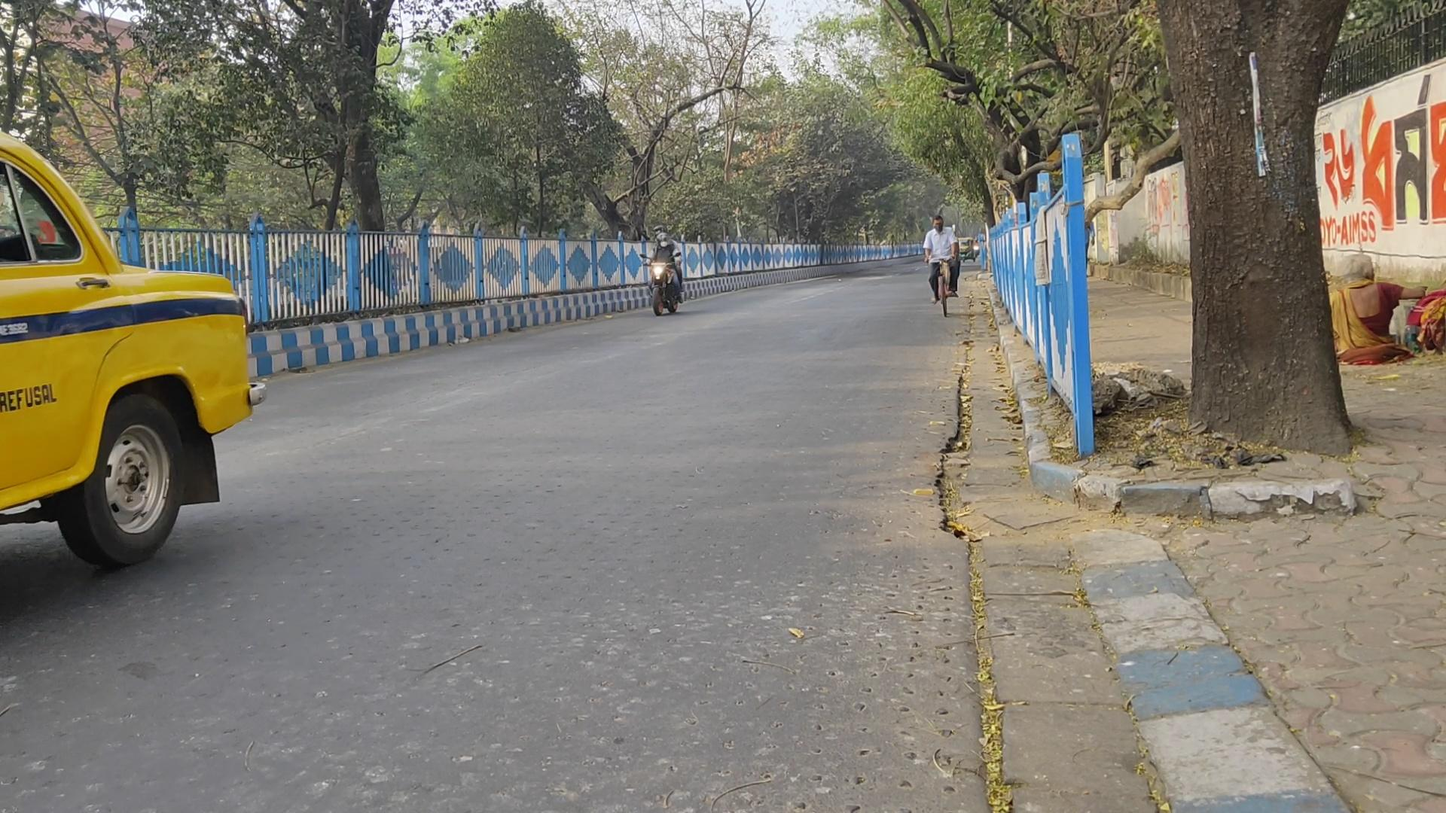Auto: (957, 236, 977, 263)
bike: (641, 225, 685, 315), (924, 214, 961, 318)
car: (2, 129, 267, 577)
